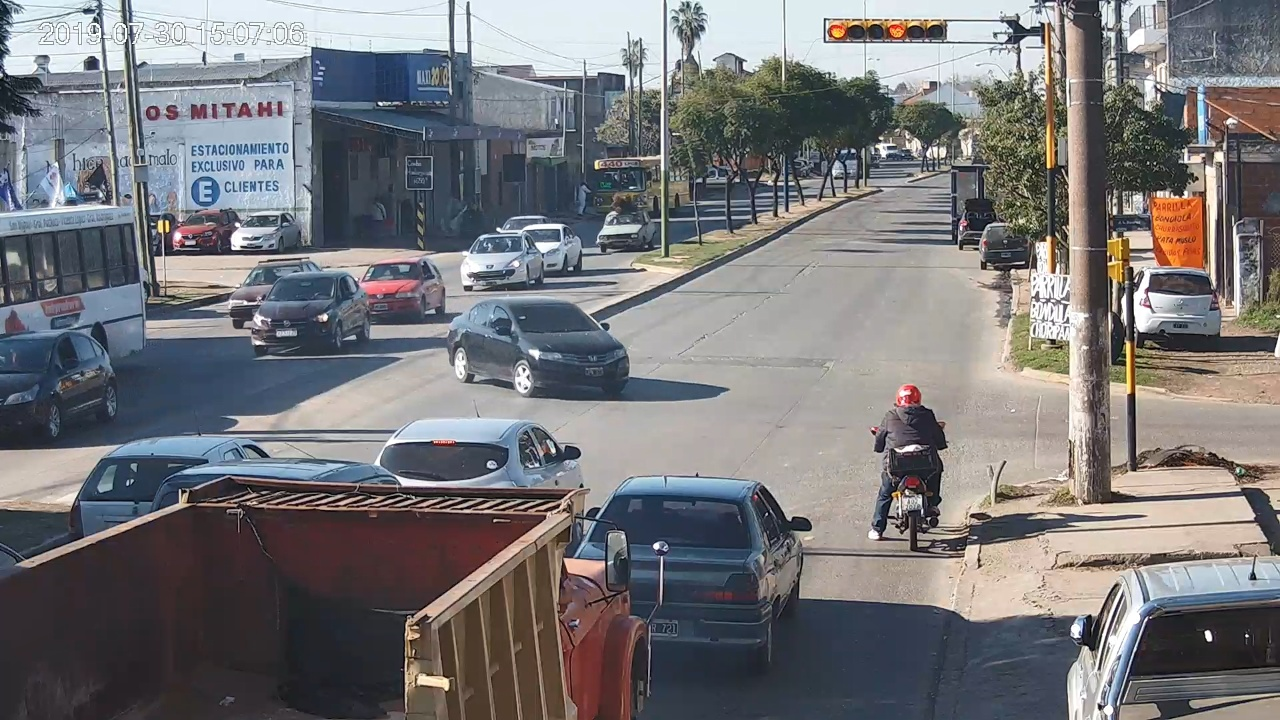front car: (446, 295, 630, 397), (460, 233, 544, 291)
motorcycle: (868, 406, 948, 551)
traffic light: (827, 18, 947, 41)
